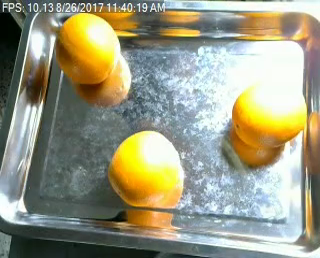Orange: (107, 130, 183, 209), (231, 81, 306, 146), (56, 12, 120, 83)
